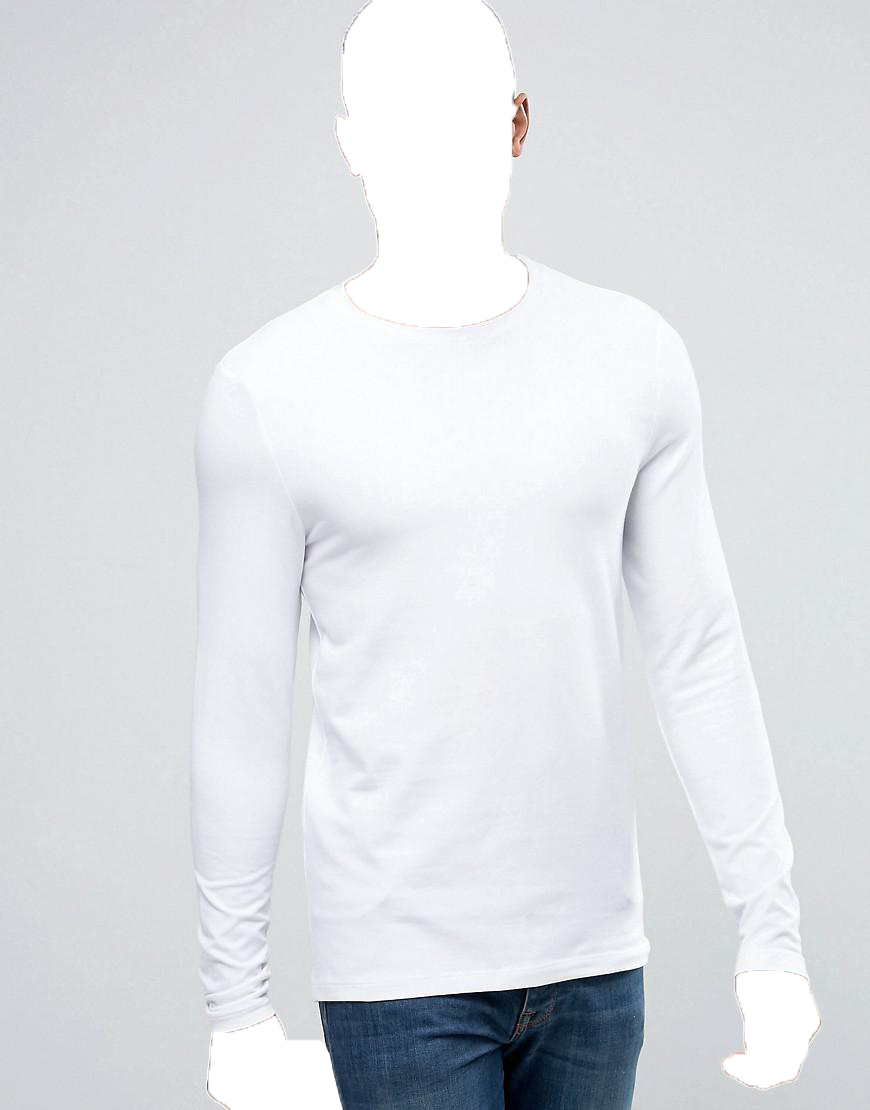teeshirt: (151, 261, 837, 1029)
